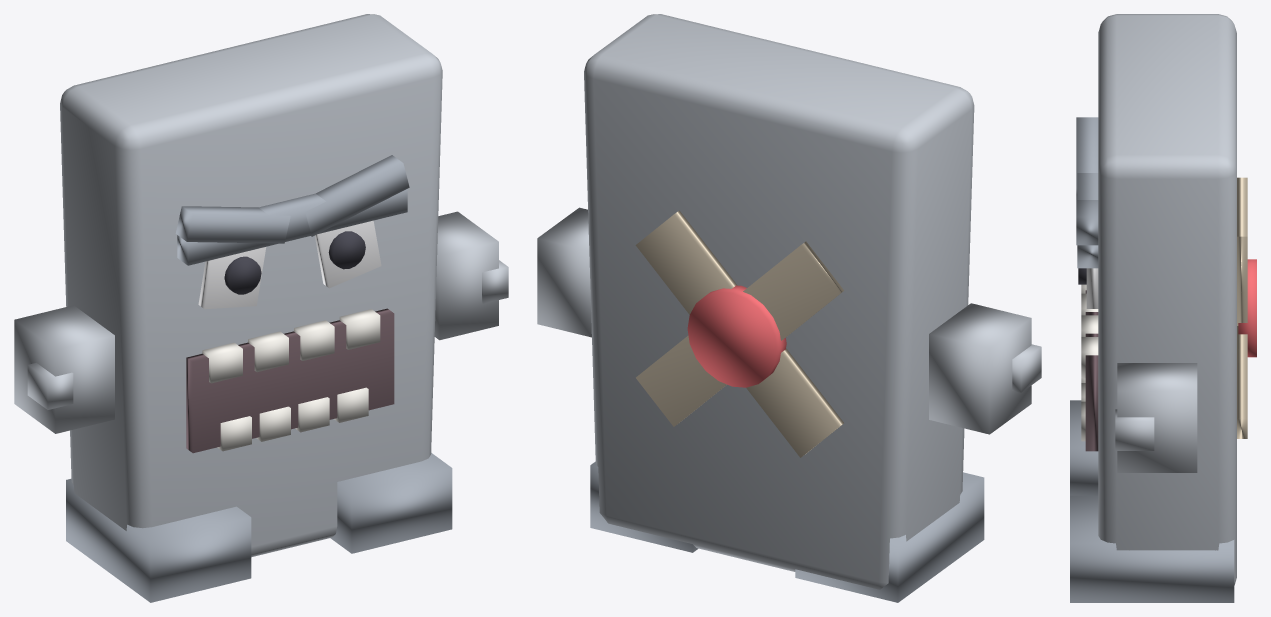
The model's file is SM64_Whomp.fbx.
The picture shows the model from 3 angles, left to right: view 1: azimuth 30°, elevation 25°; view 2: azimuth 150°, elevation 25°; view 3: azimuth 270°, elevation 25°; orthographic projection. The views are drawn at different scales.
Visible parts, largest first — view 1: WhompMonolithBody, WhompMouthCavity, WhompStoneFoot_L, WhompStoneHand_L, WhompStoneFoot_R, WhompStoneHand_R, StoneBrowRidge, BrowSlant_0.36400000000000005, BrowSlant_-0.36400000000000005, WhompEyeWhite_-0.3472, WhompEyeWhite_0.3472, WhompStoneThumb_L (+11 smaller); view 2: WhompMonolithBody, WhompStoneHand_L, BandageStrip2, BandageStrip1, BandageBullseye, WhompStoneFoot_L, WhompStoneHand_R, WhompStoneFoot_R, WhompStoneThumb_L; view 3: WhompMonolithBody, WhompStoneFoot_R, WhompStoneHand_R, WhompStoneFoot_L, BandageStrip1, WhompMouthCavity, WhompStoneThumb_R, BrowSlant_-0.36400000000000005, StoneBrowRidge, BandageBullseye, BrowSlant_0.36400000000000005, BandageStrip2 (+3 smaller).
Part boxes in pixels (x1=…): WhompMonolithBody: x1=60, y1=14, x2=442, y2=557; WhompMouthCavity: x1=186, y1=308, x2=394, y2=453; WhompStoneFoot_L: x1=66, y1=479, x2=251, y2=602; WhompStoneHand_L: x1=14, y1=305, x2=114, y2=433; WhompStoneFoot_R: x1=330, y1=453, x2=452, y2=553; WhompStoneHand_R: x1=434, y1=211, x2=498, y2=340; StoneBrowRidge: x1=177, y1=189, x2=407, y2=265; BrowSlant_0.36400000000000005: x1=305, y1=155, x2=409, y2=236; BrowSlant_-0.36400000000000005: x1=175, y1=206, x2=290, y2=243; WhompEyeWhite_-0.3472: x1=198, y1=247, x2=266, y2=309; WhompEyeWhite_0.3472: x1=315, y1=220, x2=381, y2=288; WhompStoneThumb_L: x1=27, y1=362, x2=73, y2=409; WhompMonolithBody: x1=584, y1=14, x2=974, y2=589; WhompStoneHand_L: x1=929, y1=303, x2=1031, y2=434; BandageStrip2: x1=635, y1=210, x2=843, y2=457; BandageStrip1: x1=636, y1=241, x2=843, y2=426; BandageBullseye: x1=687, y1=285, x2=786, y2=387; WhompStoneFoot_L: x1=795, y1=472, x2=984, y2=602; WhompStoneHand_R: x1=537, y1=207, x2=591, y2=337; WhompStoneFoot_R: x1=590, y1=461, x2=698, y2=552; WhompStoneThumb_L: x1=1012, y1=344, x2=1041, y2=392; WhompMonolithBody: x1=1098, y1=14, x2=1236, y2=585; WhompStoneFoot_R: x1=1070, y1=495, x2=1234, y2=602; WhompStoneHand_R: x1=1117, y1=363, x2=1197, y2=472; WhompStoneFoot_L: x1=1070, y1=400, x2=1098, y2=495; BandageStrip1: x1=1237, y1=177, x2=1247, y2=438; WhompMouthCavity: x1=1085, y1=290, x2=1098, y2=451; WhompStoneThumb_R: x1=1115, y1=409, x2=1154, y2=450; BrowSlant_-0.36400000000000005: x1=1076, y1=117, x2=1098, y2=195; StoneBrowRidge: x1=1077, y1=173, x2=1098, y2=268; BandageBullseye: x1=1238, y1=259, x2=1256, y2=357; BrowSlant_0.36400000000000005: x1=1076, y1=195, x2=1098, y2=245; BandageStrip2: x1=1237, y1=236, x2=1247, y2=325.
Bounding box in the file's own units: 2.82 × 2.69 × 1.02.
